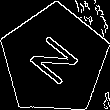N_SE: (23, 29, 86, 92)
